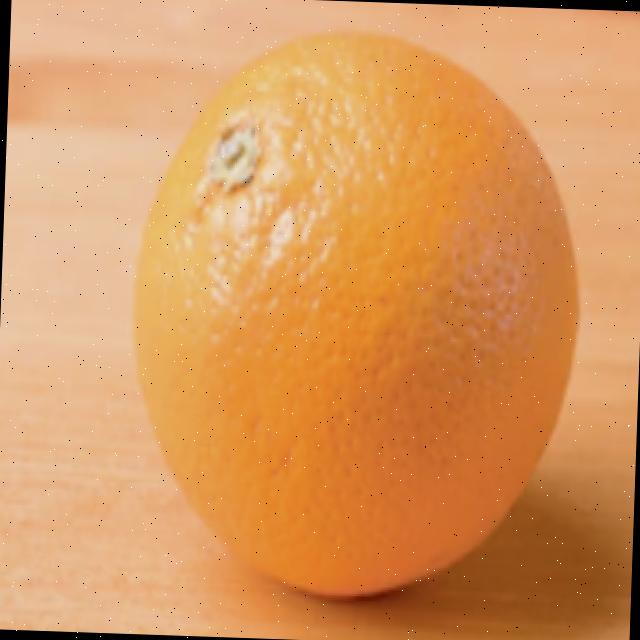orange: (119, 21, 592, 610)
